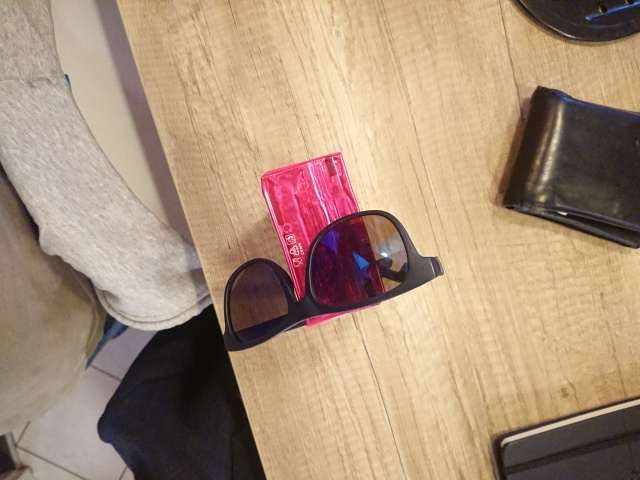Barcaffe Classic Original 225g: (257, 149, 391, 330)
